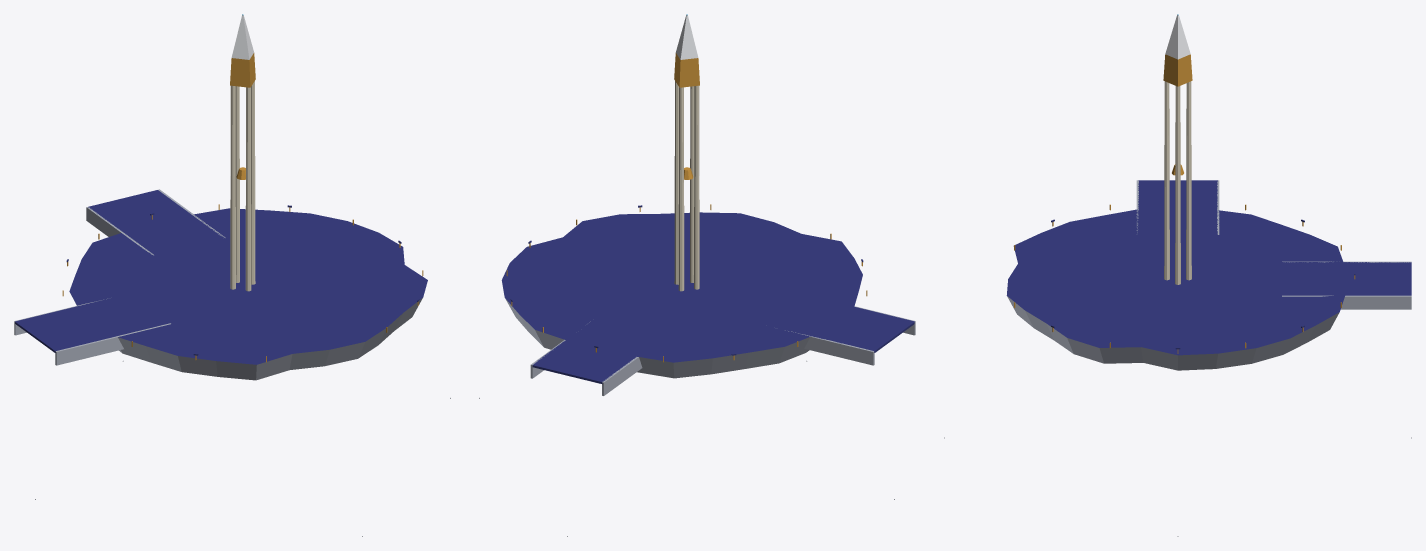
The model's file is chunk_es_path_bend_west.fbx.
3 renders of one model, left to right at view 1: azimuth 30°, elevation 25°; view 2: azimuth 150°, elevation 25°; view 3: azimuth 270°, elevation 25°, orthographic. The views are drawn at different scales.
Parts seen in each view (by area): view 1: ES_PATH_BEND_WEST; view 2: ES_PATH_BEND_WEST; view 3: ES_PATH_BEND_WEST.
Part boxes in pixels (x1,y1,x2,y2): ES_PATH_BEND_WEST: (14, 14, 450, 536); ES_PATH_BEND_WEST: (479, 14, 915, 536); ES_PATH_BEND_WEST: (944, 14, 1411, 536).
Size of the model in its own units: 256 by 256 by 256.
